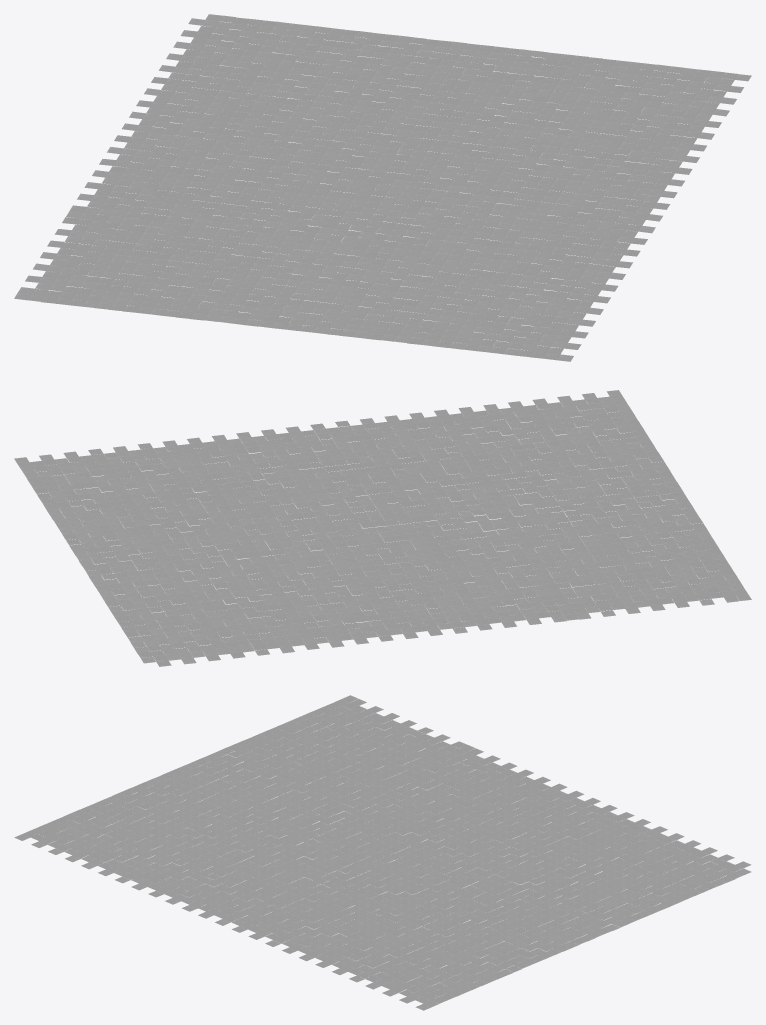
File: Ground.fbx
The picture shows the model from 3 angles, top to bottom: view 1: azimuth 30°, elevation 25°; view 2: azimuth 150°, elevation 25°; view 3: azimuth 270°, elevation 25°; orthographic projection. The views are drawn at different scales.
Visible parts, largest first — view 1: Ground; view 2: Ground; view 3: Ground.
Part boxes in pixels (box(x1,y1,x2,y2)): Ground: box(14, 14, 751, 361); Ground: box(14, 390, 751, 666); Ground: box(14, 695, 751, 1010).
Size of the model in its own units: 291339 by 339 by 288180.
2 materials, 2 textured.
